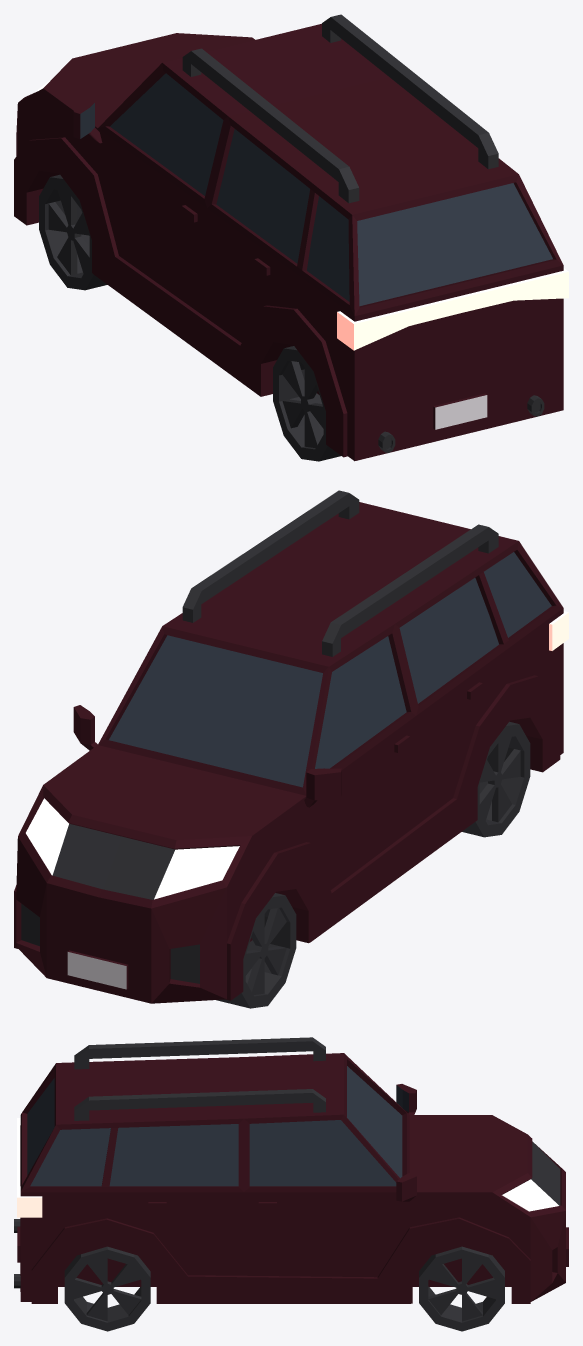
The model's file is rv_suv.glb.
3 views of the same model, one above another, from view 1: azimuth 30°, elevation 25°; view 2: azimuth 150°, elevation 25°; view 3: azimuth 270°, elevation 25° (orthographic). The views are drawn at different scales.
Visible parts, largest first — view 1: Body, WheelRL, WheelFL; view 2: Body, WheelFL, WheelRL; view 3: Body, WheelRR, WheelFR.
Boxes of the visible parts, x1,y1,x2,y2 form: Body: [14, 14, 568, 461]; WheelRL: [273, 346, 340, 461]; WheelFL: [39, 174, 107, 290]; Body: [14, 490, 568, 1003]; WheelFL: [216, 893, 296, 1008]; WheelRL: [462, 721, 530, 837]; Body: [14, 1037, 568, 1303]; WheelRR: [64, 1246, 150, 1331]; WheelFR: [419, 1246, 504, 1331].
Size of the model in its own units: 1.98 by 2.14 by 4.7.
